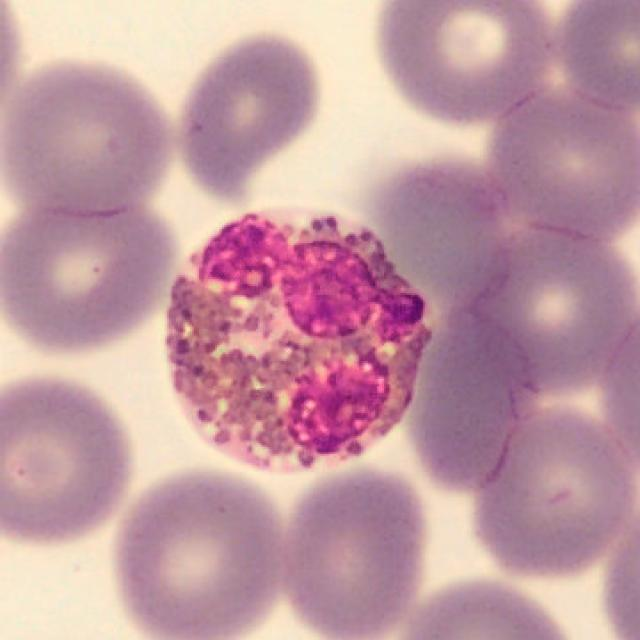Eosinofilo: (165, 206, 434, 474)
